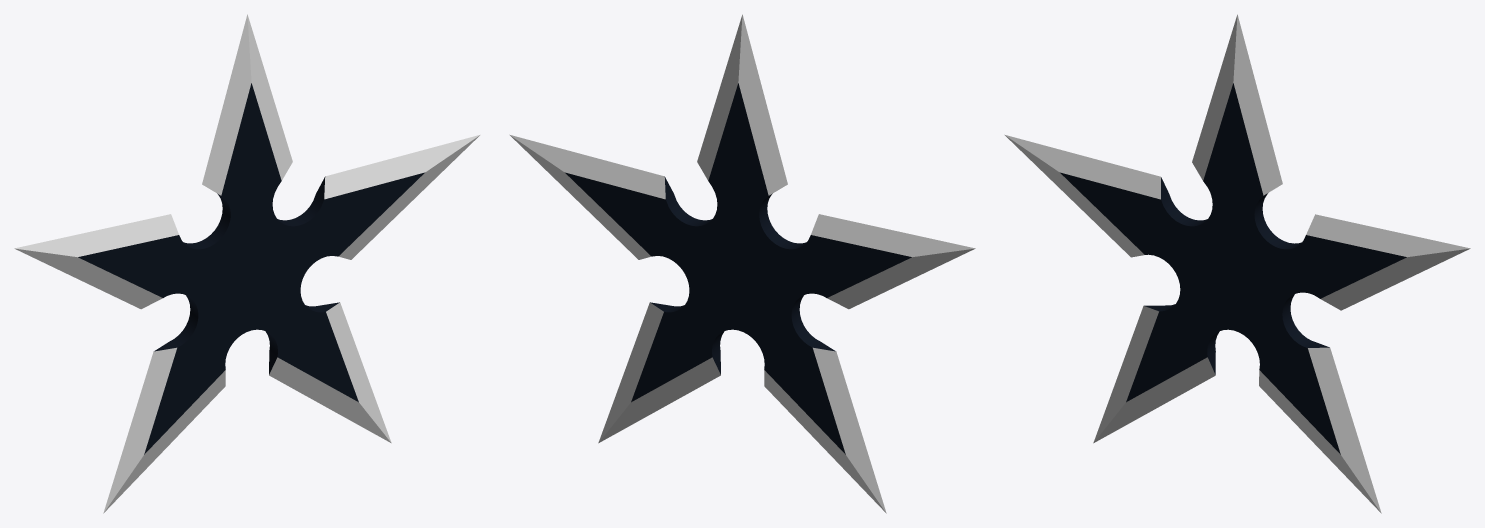
Rendered from Shuriken.glb.
3 views of the same model, side by side, from view 1: azimuth 30°, elevation 25°; view 2: azimuth 150°, elevation 25°; view 3: azimuth 330°, elevation 25° (orthographic).
Visible parts, largest first — view 1: Shuriken_8; view 2: Shuriken_8; view 3: Shuriken_8.
Boxes of the visible parts, x1=… form: Shuriken_8: x1=14, y1=14, x2=480, y2=513; Shuriken_8: x1=509, y1=14, x2=975, y2=513; Shuriken_8: x1=1004, y1=14, x2=1470, y2=513.
Bounding box in the file's own units: 1.9 × 1.81 × 0.0581.
